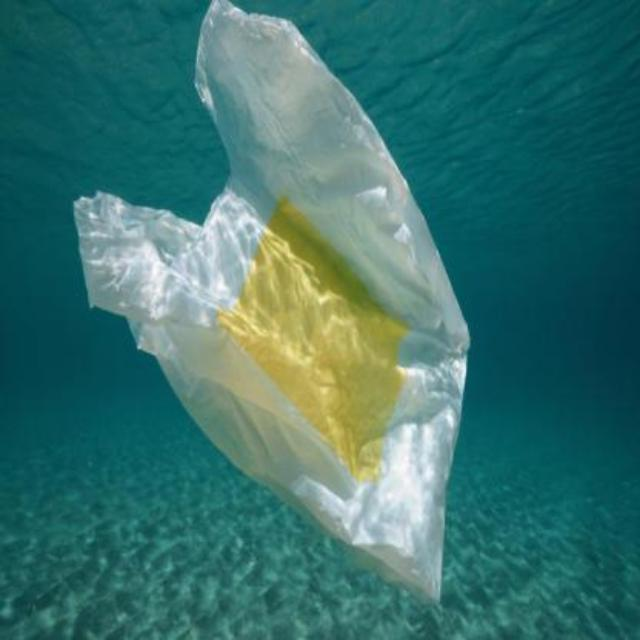sacola plástica: (72, 1, 472, 602)
